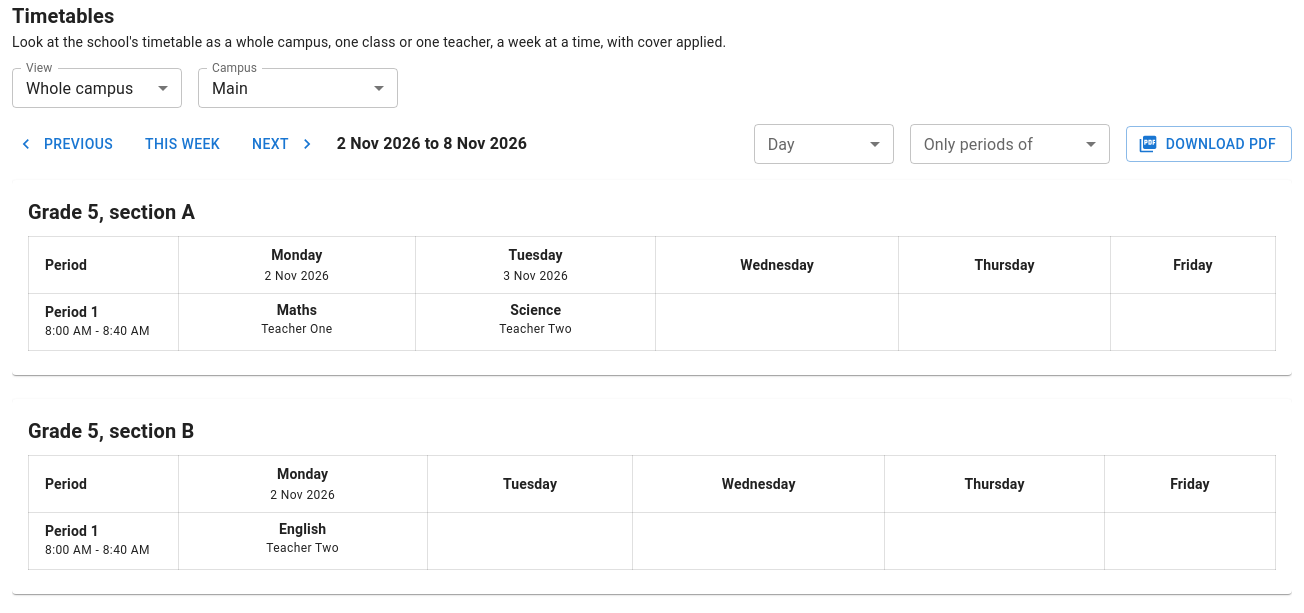
TimetablesSection › shows why a download was refused
The width and height of the screenshot is (1304, 613).
Check: the heading "Grade 5, section A" is shown, box [28,200,195,224]
Step 1. Click the button "Download PDF" → (1209, 144), box [1126,126,1292,162]
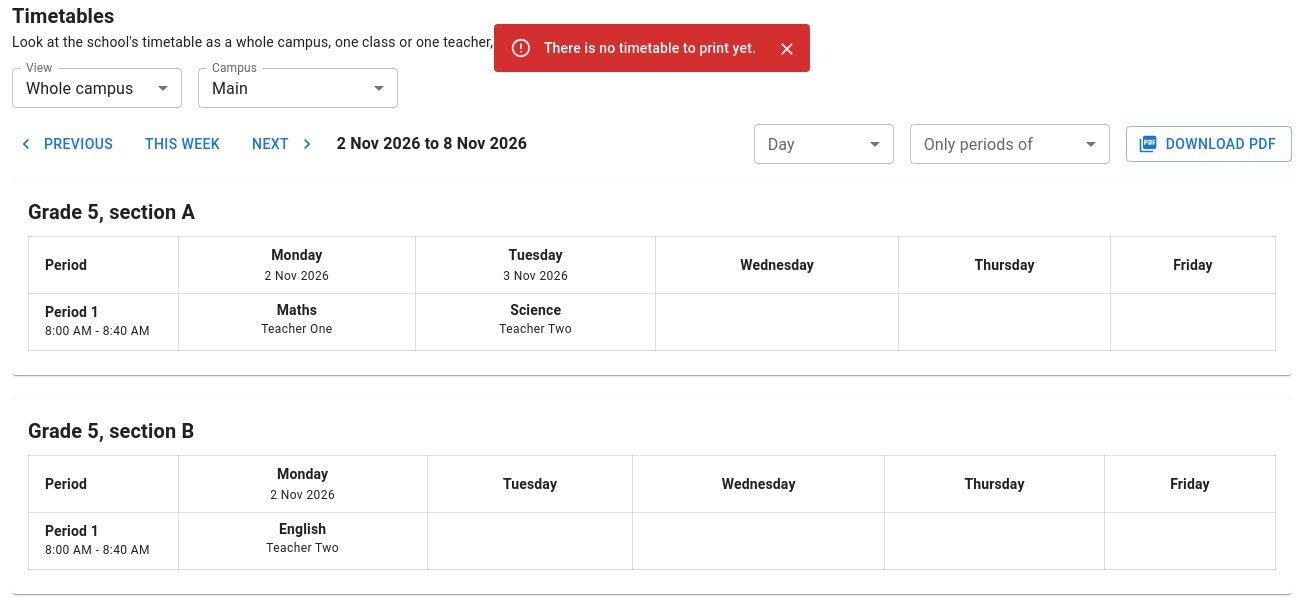
Check: the text "There is no timetable to print yet." is shown, box [544,40,756,56]
